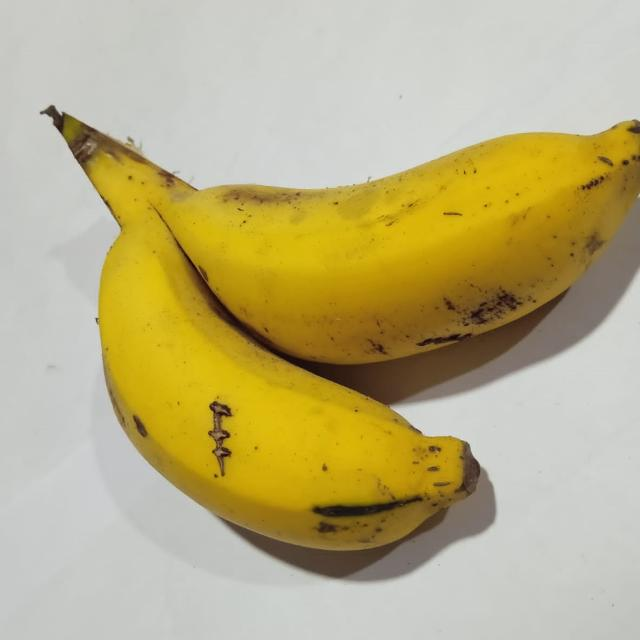banana: (47, 108, 479, 549), (151, 121, 639, 363)
